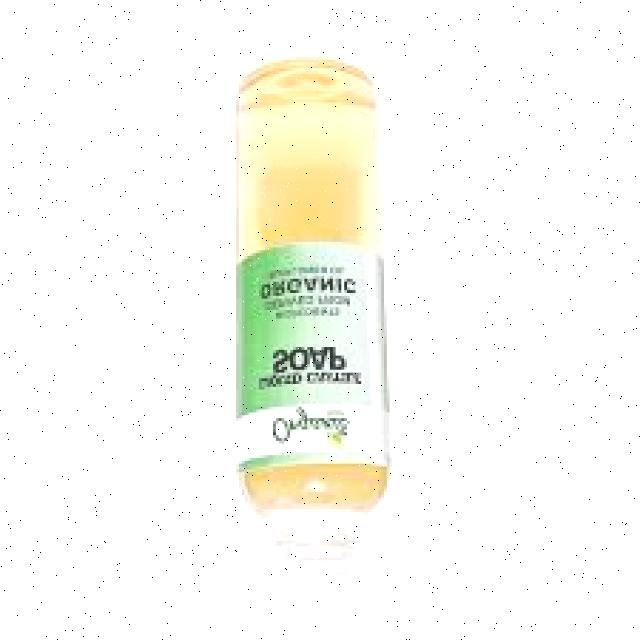liquid soap: (222, 61, 400, 630)
